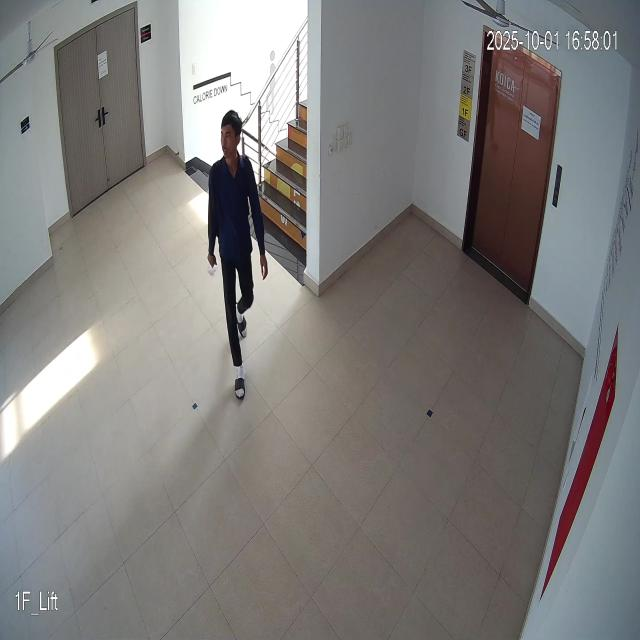face: (217, 108, 246, 170)
